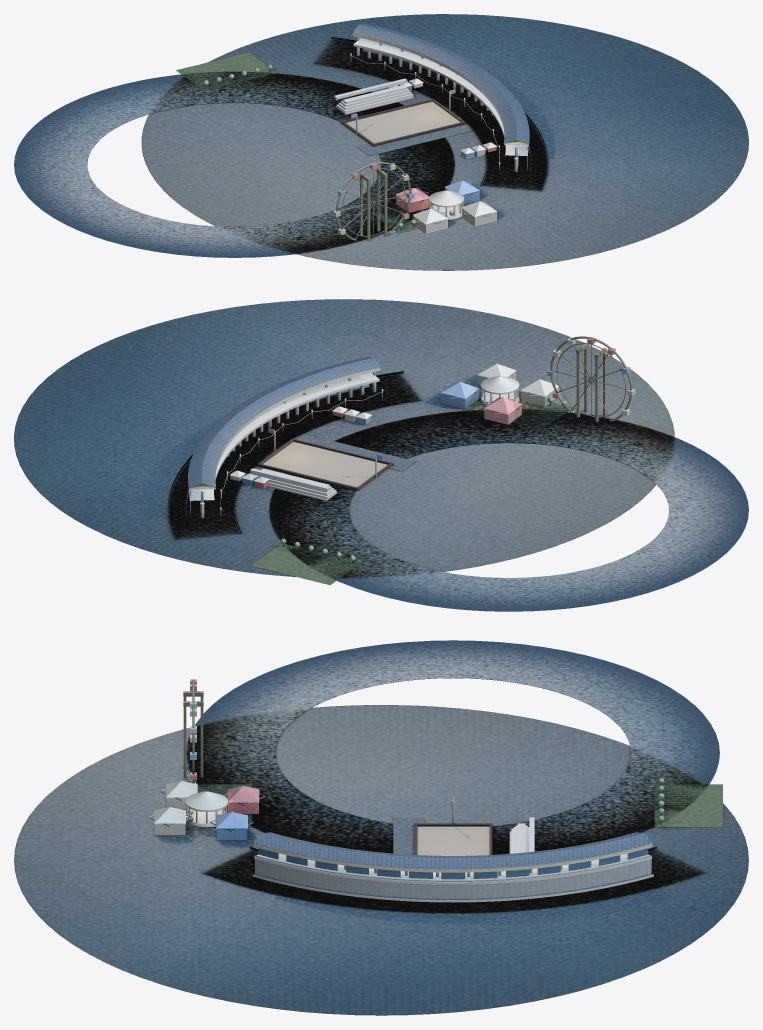
The model's file is contest_corridor.glb.
The picture shows the model from 3 angles, top to bottom: view 1: azimuth 30°, elevation 25°; view 2: azimuth 150°, elevation 25°; view 3: azimuth 270°, elevation 25°; orthographic projection. The views are drawn at different scales.
Visible parts, largest first — view 1: site_ground, props_gallery, props_fair, props_lists; view 2: site_ground, props_gallery, props_fair, props_lists; view 3: site_ground, props_gallery, props_fair, props_lists.
Part boxes in pixels (left/top/right/bottom): site_ground: left=14, top=14, right=748, bottom=270; props_gallery: left=353, top=23, right=531, bottom=171; props_fair: left=333, top=78, right=497, bottom=240; props_lists: left=334, top=78, right=465, bottom=146; site_ground: left=14, top=299, right=748, bottom=611; props_gallery: left=186, top=356, right=380, bottom=518; props_fair: left=229, top=336, right=635, bottom=488; props_lists: left=250, top=428, right=393, bottom=500; site_ground: left=14, top=640, right=748, bottom=1015; props_gallery: left=252, top=832, right=653, bottom=902; props_fair: left=148, top=679, right=265, bottom=840; props_lists: left=414, top=795, right=534, bottom=855.
Bounding box in the file's own units: 519 × 63.85 × 430.
Materials: 5 (5 with a texture image).
